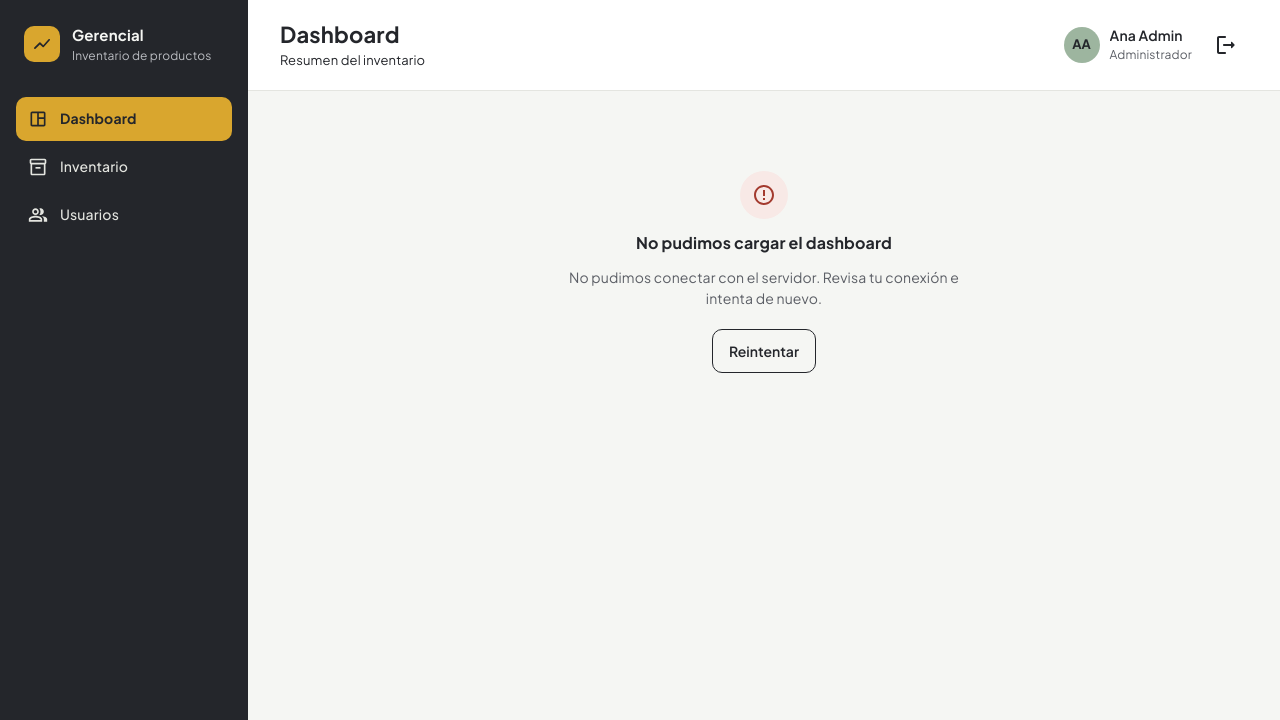
Test: auth routes › lets an ADMIN see and open Usuarios
Click the link "Usuarios" at [73, 214], box left=28, top=204, right=119, bottom=224
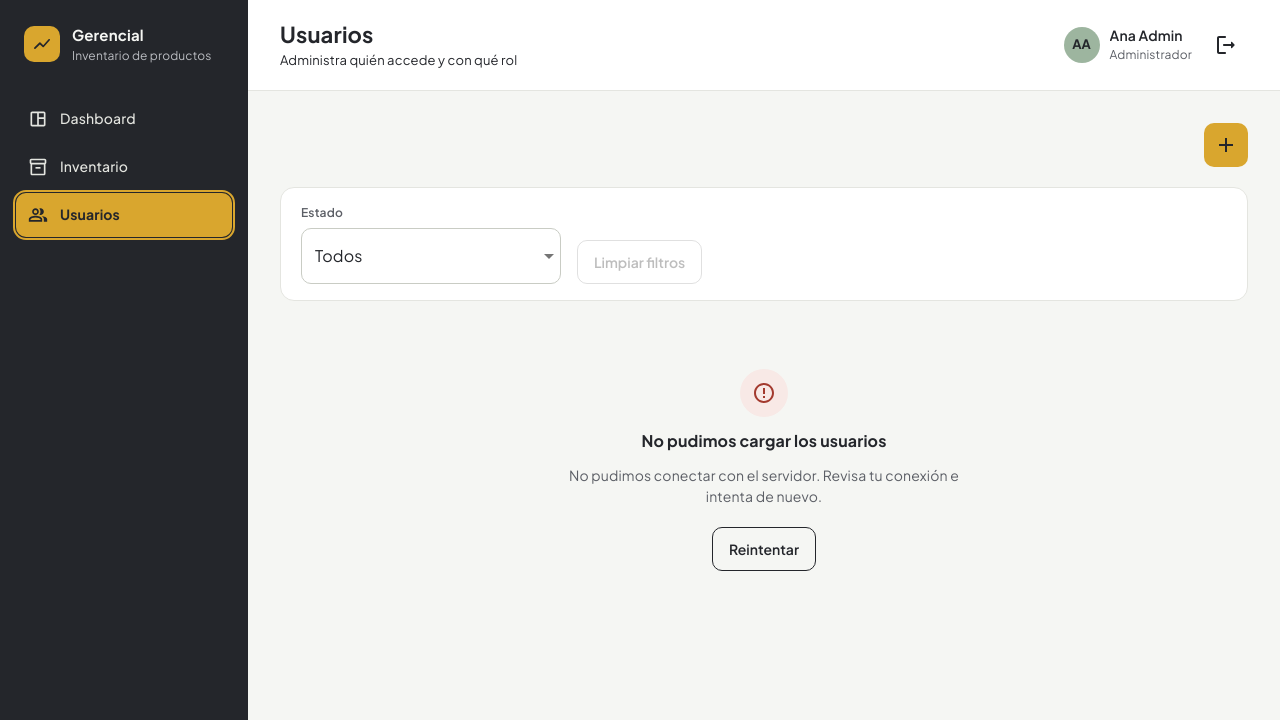
Check: the heading "Usuarios" is shown, box left=280, top=20, right=374, bottom=48
